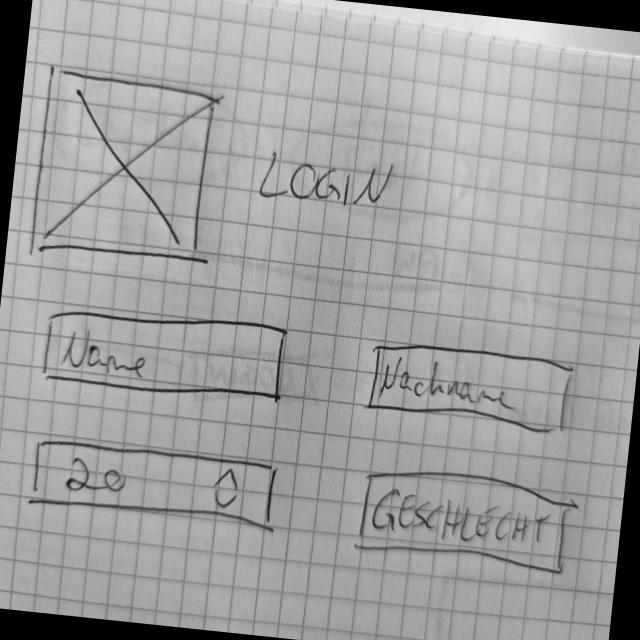image: (28, 64, 222, 270)
input: (36, 299, 293, 409), (361, 336, 576, 434)
label: (254, 145, 400, 216)
number-input: (354, 460, 574, 576), (27, 435, 281, 533)
